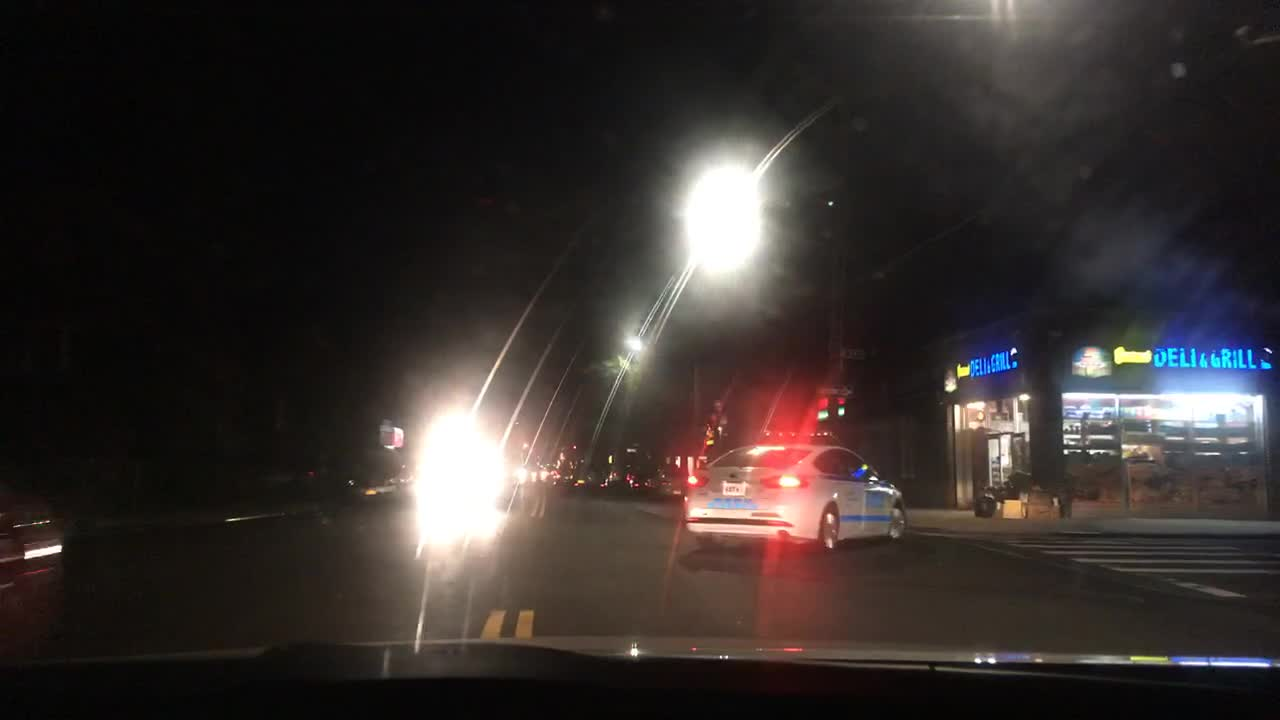car: (681, 440, 907, 554), (0, 483, 64, 630), (341, 450, 408, 502), (643, 472, 670, 489), (508, 466, 539, 477), (535, 466, 557, 480), (621, 468, 641, 482), (594, 471, 615, 483), (572, 474, 591, 486)
traffic light: (832, 394, 851, 414), (816, 394, 829, 419)
traffic sign: (813, 382, 852, 396), (837, 347, 869, 358)
